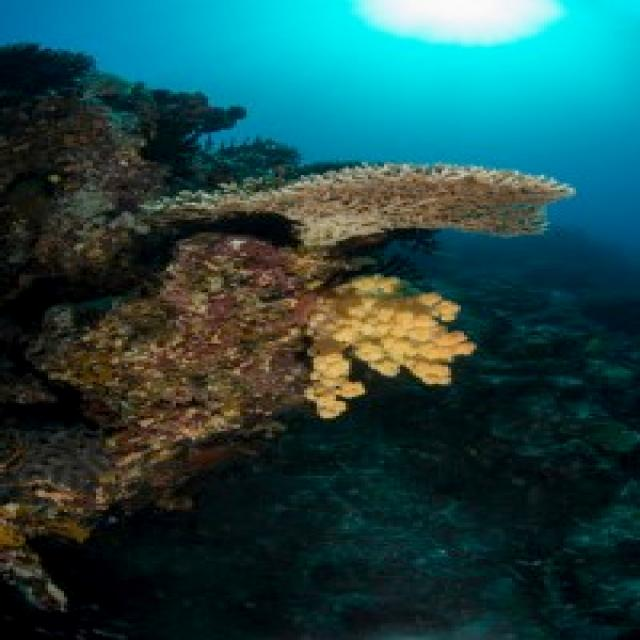Coral: (139, 164, 577, 246), (291, 272, 478, 419)
